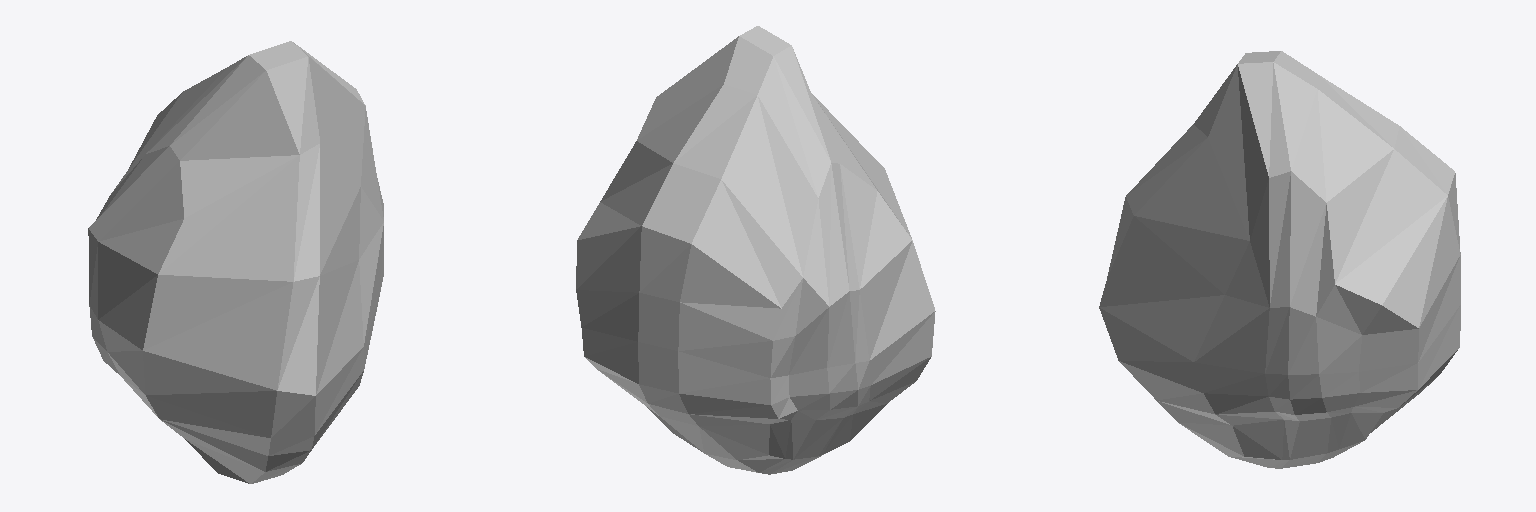
Rendered from monolith_10.obj.
The picture shows the model from 3 angles: view 1: azimuth 30°, elevation 25°; view 2: azimuth 150°, elevation 25°; view 3: azimuth 270°, elevation 25°; orthographic projection.
Parts seen in each view (by area): view 1: Cube_Cube; view 2: Cube_Cube; view 3: Cube_Cube.
Boxes of the visible parts, box(x1,y1,x2,y2) form: Cube_Cube: box(88, 41, 383, 483); Cube_Cube: box(576, 26, 935, 474); Cube_Cube: box(1099, 51, 1460, 468).
Bounding box in the file's own units: 397 × 567 × 443.